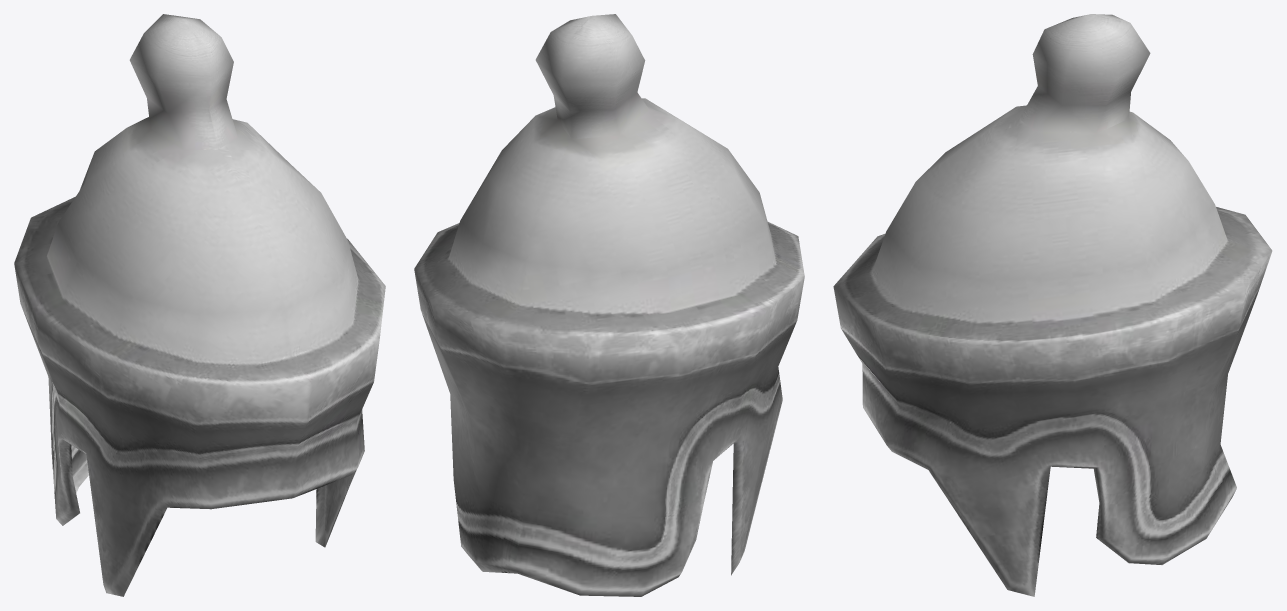
Rendered from helmet-heavyspearmen.glb.
3 views of the same model, side by side, from view 1: azimuth 30°, elevation 25°; view 2: azimuth 150°, elevation 25°; view 3: azimuth 270°, elevation 25° (orthographic). The views are drawn at different scales.
Bounding box in the file's own units: 0.262 × 0.4243 × 0.3177.
Materials: 1 (1 with a texture image).
